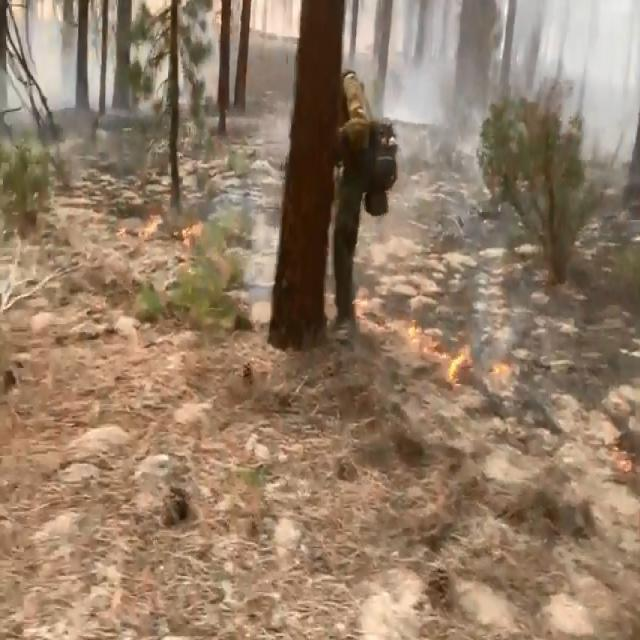Fire: (360, 290, 510, 390)
